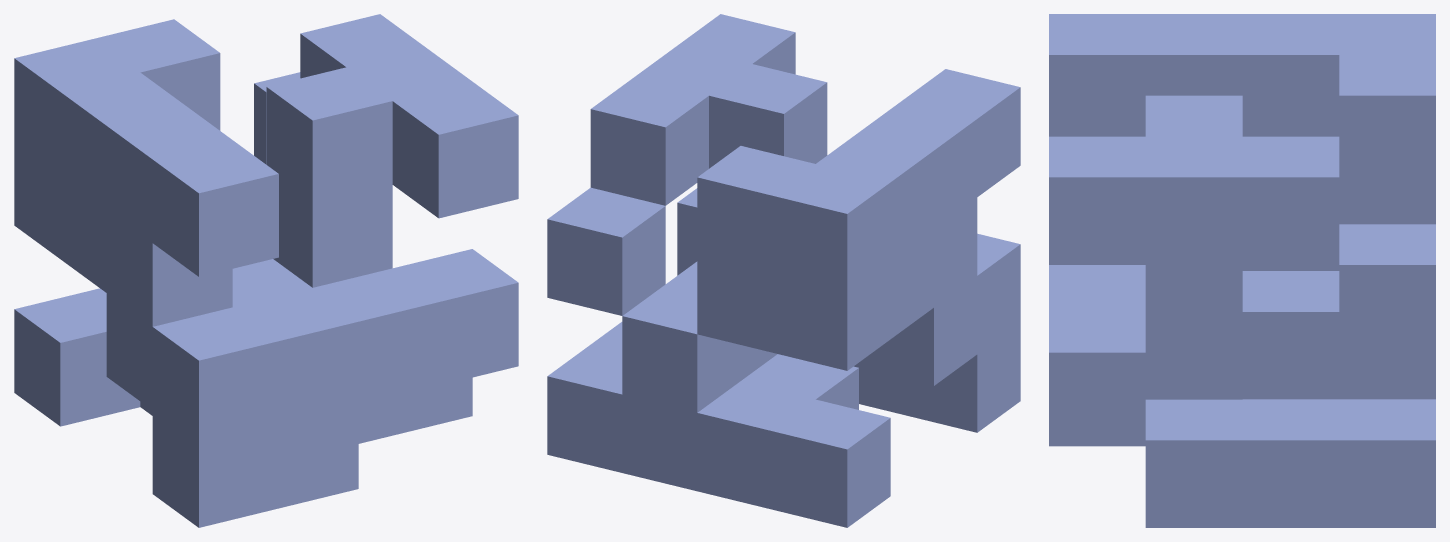
3 views of the same model, side by side, from view 1: azimuth 30°, elevation 25°; view 2: azimuth 150°, elevation 25°; view 3: azimuth 270°, elevation 25° (orthographic). The views are drawn at different scales.
Visible parts, largest first — view 1: _changes.003; view 2: _changes.003; view 3: _changes.003.
Part boxes in pixels (x1,y1,x2,y2): _changes.003: [14, 14, 518, 527]; _changes.003: [547, 14, 1020, 527]; _changes.003: [1049, 14, 1435, 527].
Size of the model in its own units: 0.1041 by 0.1041 by 0.1041.
